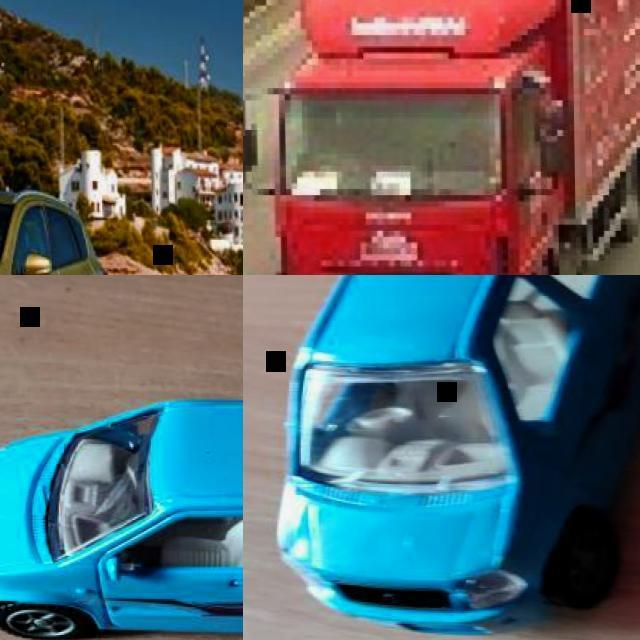car: (270, 325, 523, 617)
